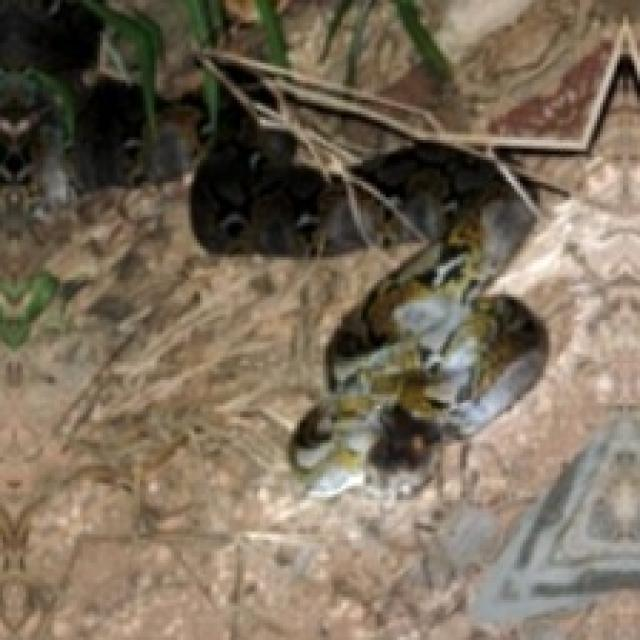reticulated python: (289, 191, 546, 497), (189, 100, 366, 254), (351, 143, 529, 237)
